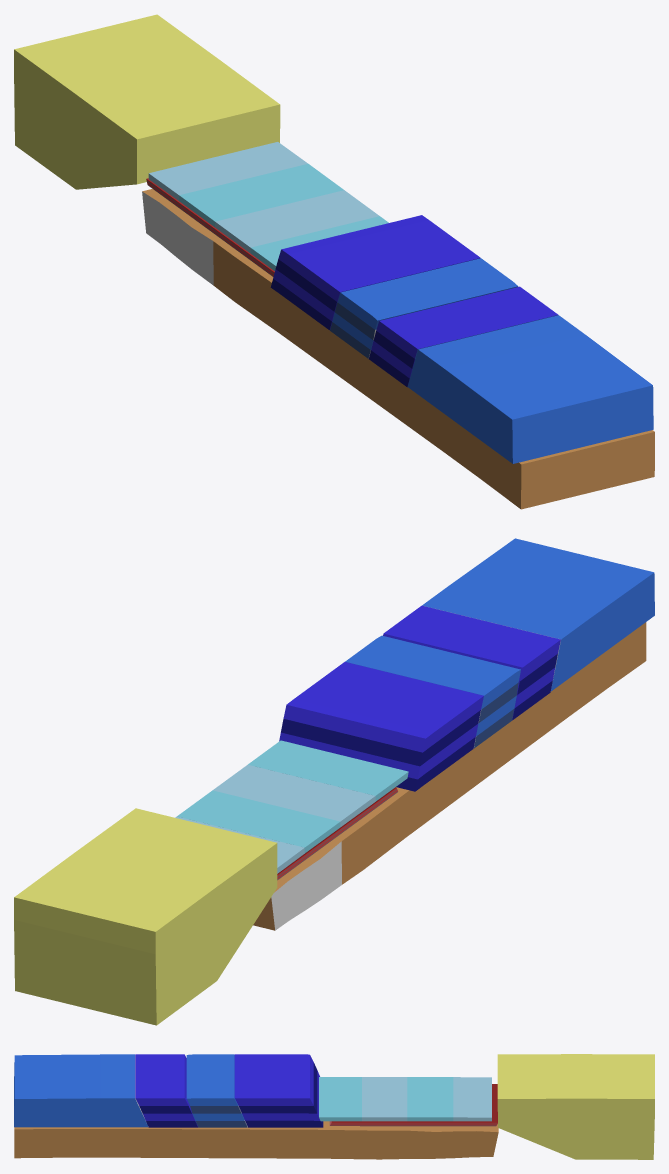
File: HimalayaNewAnim.gltf
The picture shows the model from 3 angles, top to bottom: view 1: azimuth 30°, elevation 25°; view 2: azimuth 150°, elevation 25°; view 3: azimuth 270°, elevation 25°; orthographic projection. The views are drawn at different scales.
Visible parts, largest first — view 1: Cube; view 2: Cube; view 3: Cube.
Part boxes in pixels (box(x1,y1,x2,y2)): Cube: box(14, 14, 654, 509); Cube: box(14, 538, 654, 1025); Cube: box(14, 1054, 654, 1159).
Bounding box in the file's own units: 6.27 × 4.01 × 37.3.
